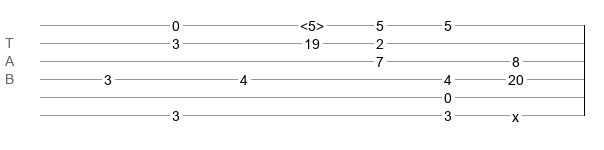0: (172, 18, 180, 28), (444, 90, 452, 100)
19: (304, 36, 320, 46)
2: (376, 36, 384, 46)
20: (508, 72, 524, 82)
3: (104, 72, 112, 82), (172, 36, 180, 46), (172, 108, 180, 118), (444, 108, 452, 118)
4: (240, 72, 248, 82), (444, 72, 452, 82)
5: (376, 18, 384, 28), (444, 18, 452, 28)
7: (376, 54, 384, 64)
8: (512, 54, 520, 64)
harmonic: (300, 18, 324, 28)
x: (512, 109, 519, 117)
